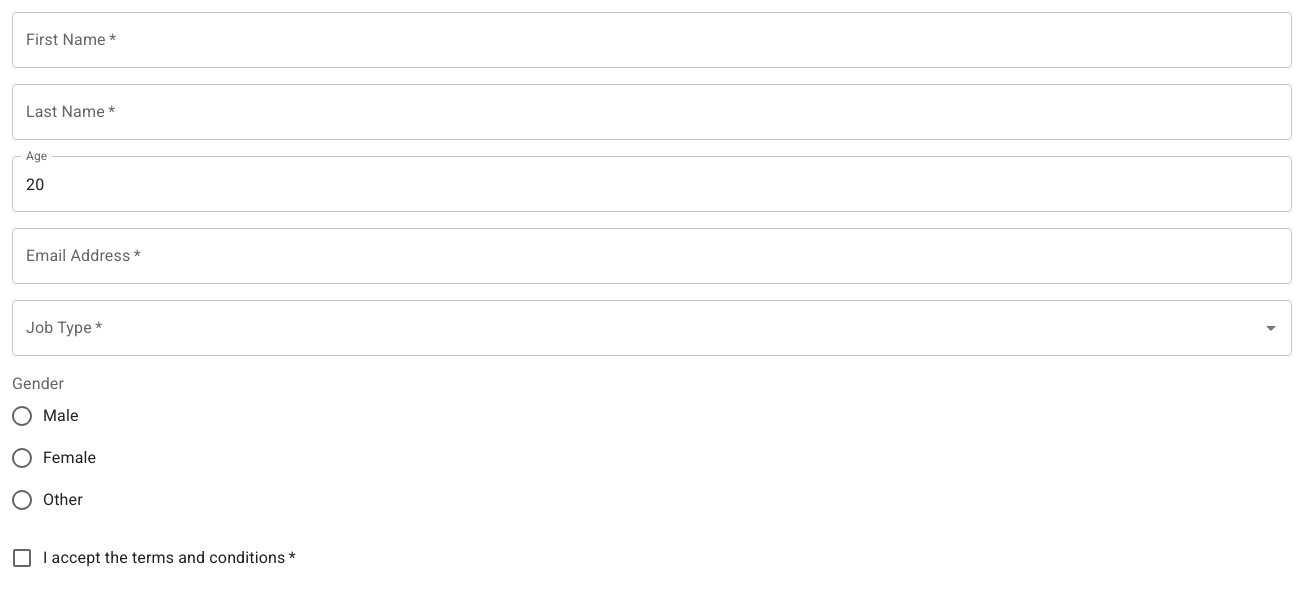
SignUpForm › validates form text fields › Last Name › is over limit of characters
The width and height of the screenshot is (1304, 607).
# Fill in invalid values
Type "Doe456789012345678901" into the field labelled "Last Name" at [652, 112], box [12,84,1292,140]
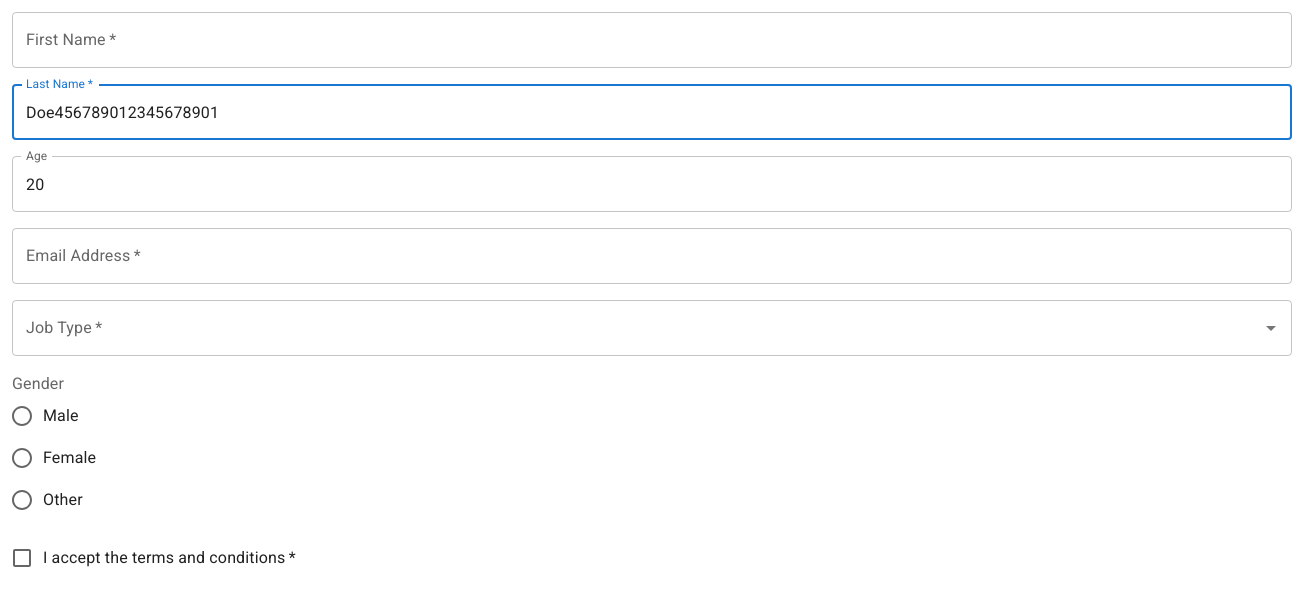
Press Tab
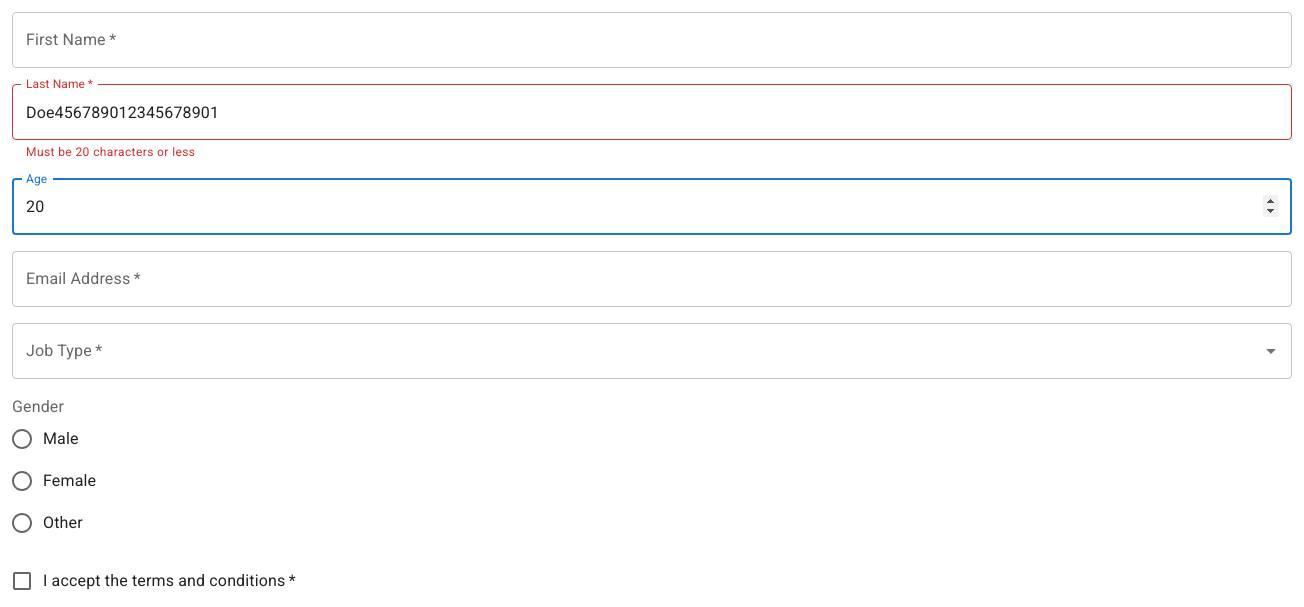
Check: the text "Must be 20 characters or less" is shown, box [26,145,196,159]
